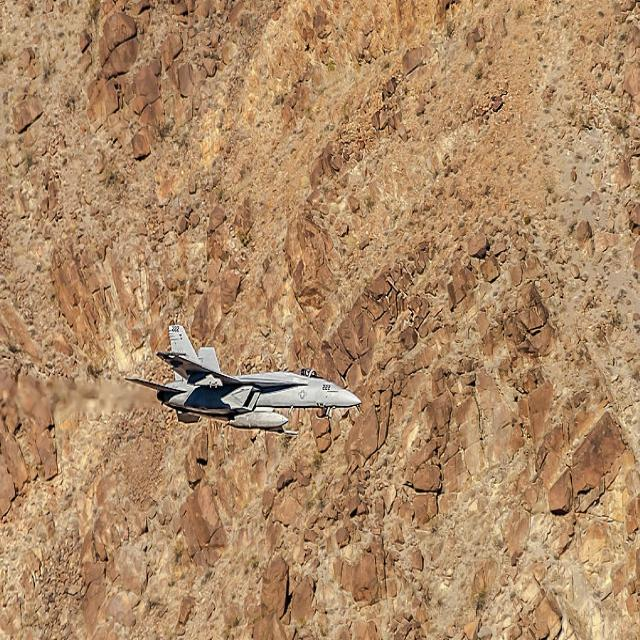MIL_Plane: (124, 324, 362, 435)
